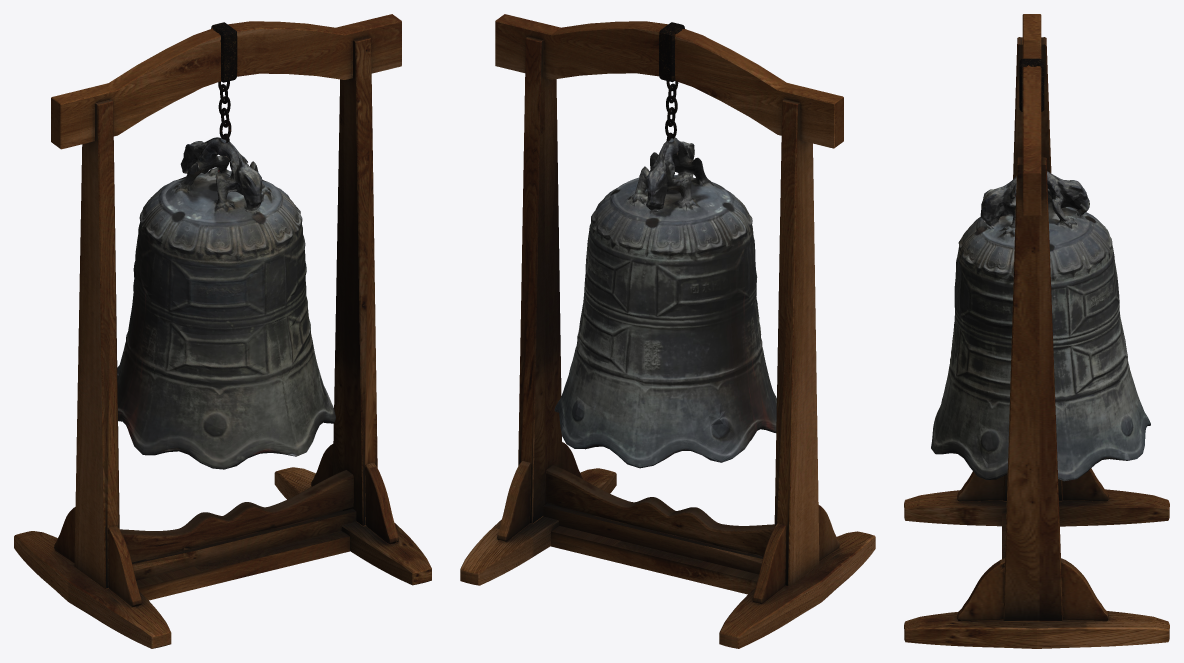
Rendered from Campana Tavolo.obj.
3 views of the same model, side by side, from view 1: azimuth 30°, elevation 25°; view 2: azimuth 150°, elevation 25°; view 3: azimuth 270°, elevation 25° (orthographic). The views are drawn at different scales.
Visible parts, largest first — view 1: Telaio_Baked01, Campana_LR01, Chain01; view 2: Telaio_Baked01, Campana_LR01, Chain01; view 3: Telaio_Baked01, Campana_LR01, Chain01.
Boxes of the visible parts, box(x1,y1,x2,y2) form: Telaio_Baked01: box(14, 14, 431, 648); Campana_LR01: box(117, 137, 335, 469); Chain01: box(211, 22, 237, 142); Telaio_Baked01: box(460, 14, 875, 648); Campana_LR01: box(554, 137, 776, 468); Chain01: box(659, 22, 684, 140); Telaio_Baked01: box(904, 14, 1169, 648); Campana_LR01: box(931, 171, 1150, 481); Chain01: box(1019, 58, 1044, 111).
Bounding box in the file's own units: 11.36 × 17.15 × 8.02.
